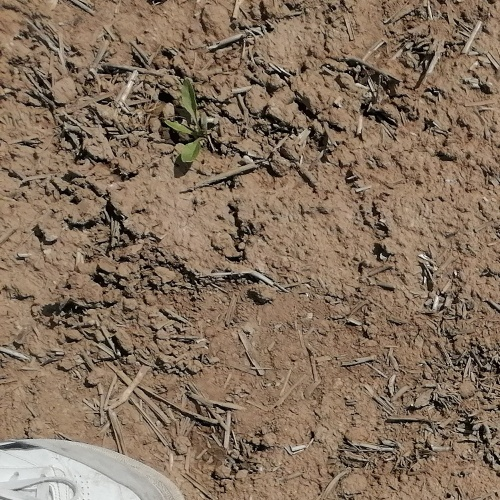beet: (163, 80, 205, 163)
